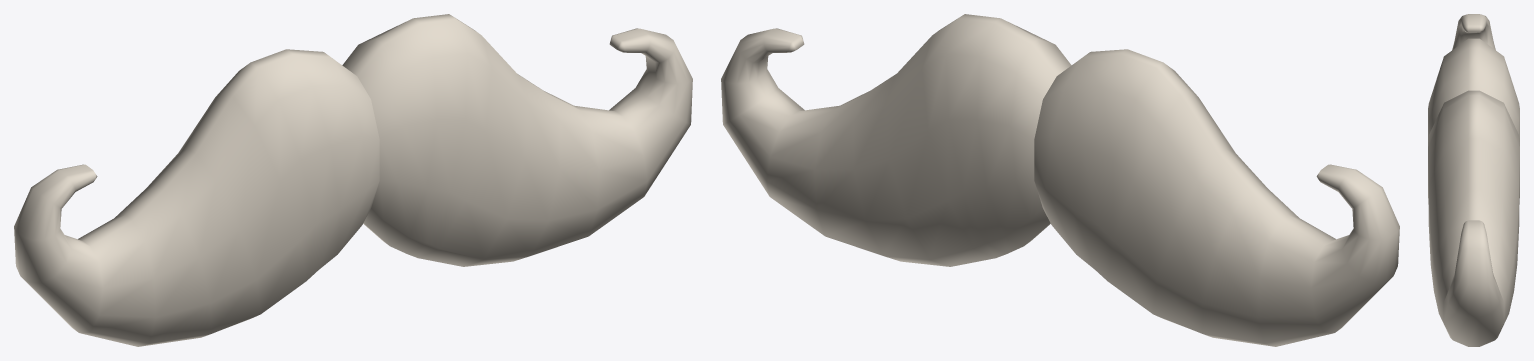
The model's file is Beard_10_07.fbx.
The picture shows the model from 3 angles, left to right: view 1: azimuth 30°, elevation 25°; view 2: azimuth 150°, elevation 25°; view 3: azimuth 270°, elevation 25°; orthographic projection. The views are drawn at different scales.
Visible parts, largest first — view 1: Beard_10_07; view 2: Beard_10_07; view 3: Beard_10_07.
Part boxes in pixels (x1,y1,x2,y2): Beard_10_07: (14, 14, 692, 346); Beard_10_07: (721, 14, 1399, 346); Beard_10_07: (1428, 14, 1519, 346).
Size of the model in its own units: 18.39 by 6.86 by 2.89.
